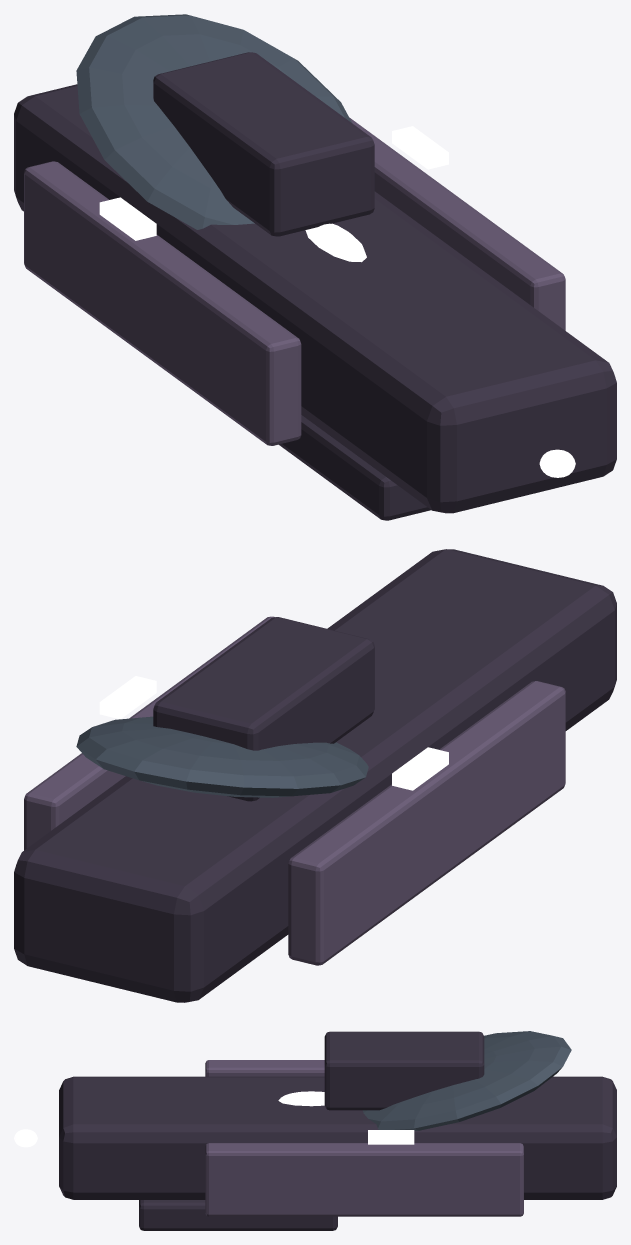
3 renders of one model, top to bottom at view 1: azimuth 30°, elevation 25°; view 2: azimuth 150°, elevation 25°; view 3: azimuth 270°, elevation 25°, orthographic. The views are drawn at different scales.
Parts seen in each view (by area): view 1: RIMWARD_HULL, RIMWARD_EMISSIVE, RIMWARD_ENGINE_GLOW; view 2: RIMWARD_HULL, RIMWARD_EMISSIVE; view 3: RIMWARD_HULL, RIMWARD_EMISSIVE, RIMWARD_ENGINE_GLOW.
Boxes of the visible parts, <box> form: RIMWARD_HULL: <box>14,14,616,520</box>; RIMWARD_EMISSIVE: <box>99,126,448,262</box>; RIMWARD_ENGINE_GLOW: <box>539,449,575,477</box>; RIMWARD_HULL: <box>14,549,616,1002</box>; RIMWARD_EMISSIVE: <box>99,676,448,790</box>; RIMWARD_HULL: <box>59,1031,616,1230</box>; RIMWARD_EMISSIVE: <box>278,1091,414,1144</box>; RIMWARD_ENGINE_GLOW: <box>14,1129,37,1147</box>.
Bounding box in the file's own units: 11.23 × 8.49 × 29.06.
